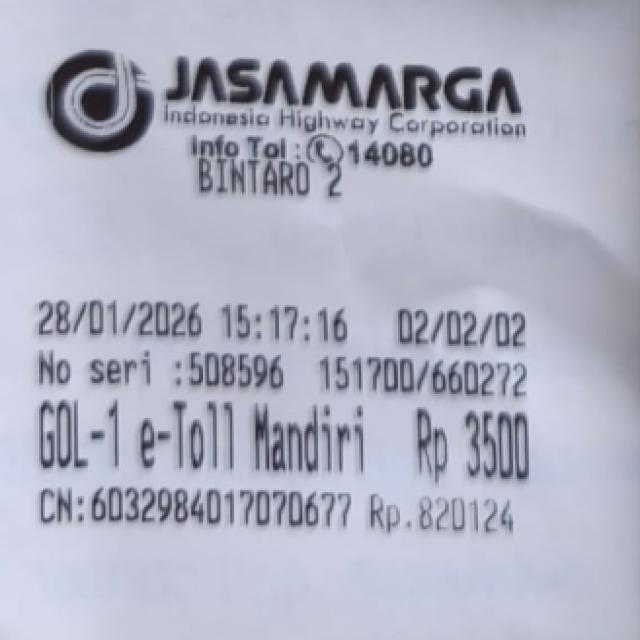date: (25, 293, 354, 347)
store: (153, 54, 545, 140)
total: (410, 407, 551, 486)
